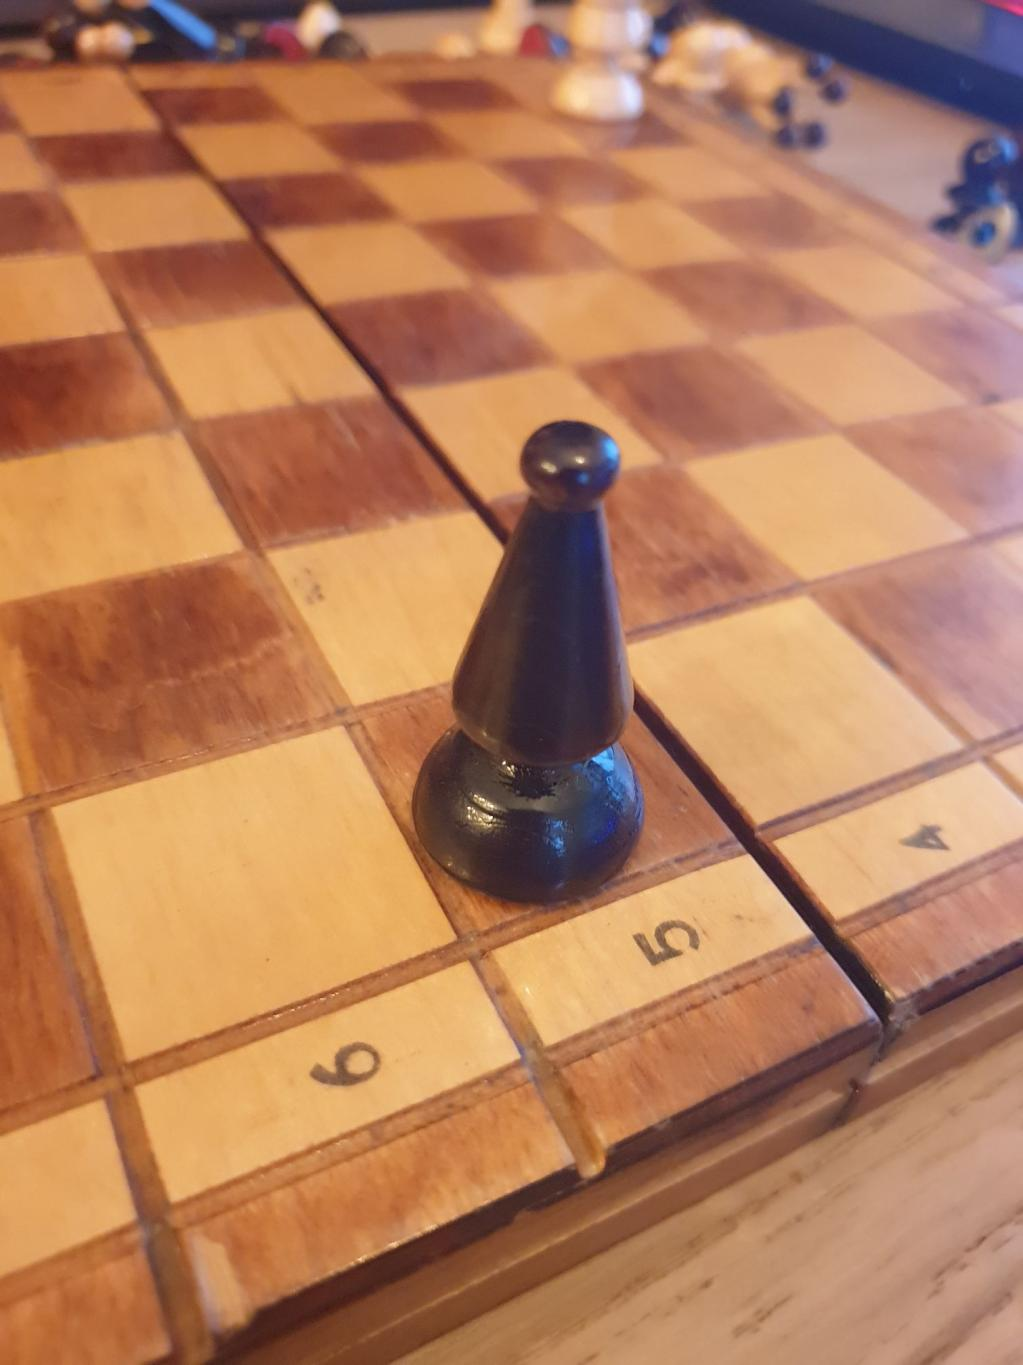bbishop: (410, 418, 642, 904)
